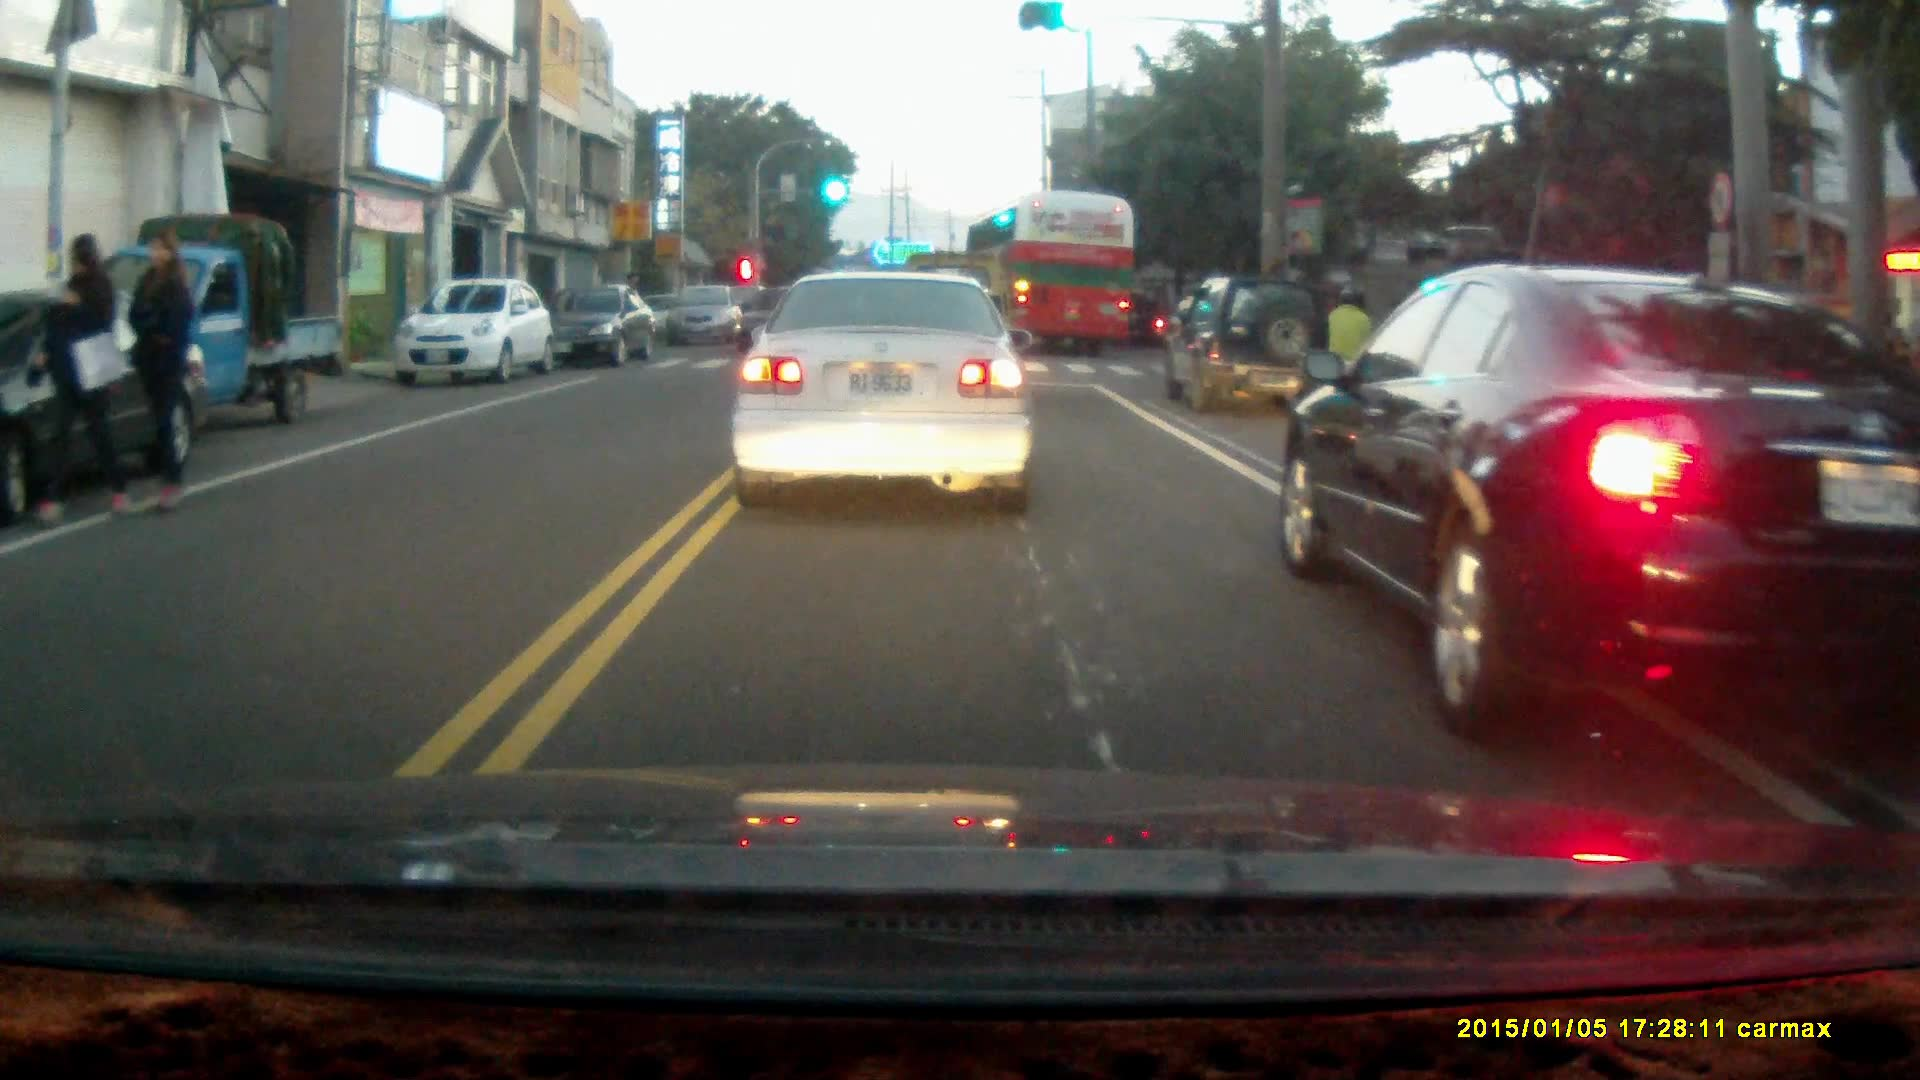pedestrian: (34, 231, 132, 521), (124, 228, 197, 514)
rider: (1320, 284, 1381, 419), (1116, 292, 1167, 350)
vehicle: (1279, 267, 1920, 735), (730, 266, 1036, 516), (88, 213, 342, 427), (1, 284, 208, 515), (963, 194, 1135, 358), (1165, 275, 1336, 418), (395, 280, 551, 387), (546, 280, 661, 370), (662, 286, 746, 353)
